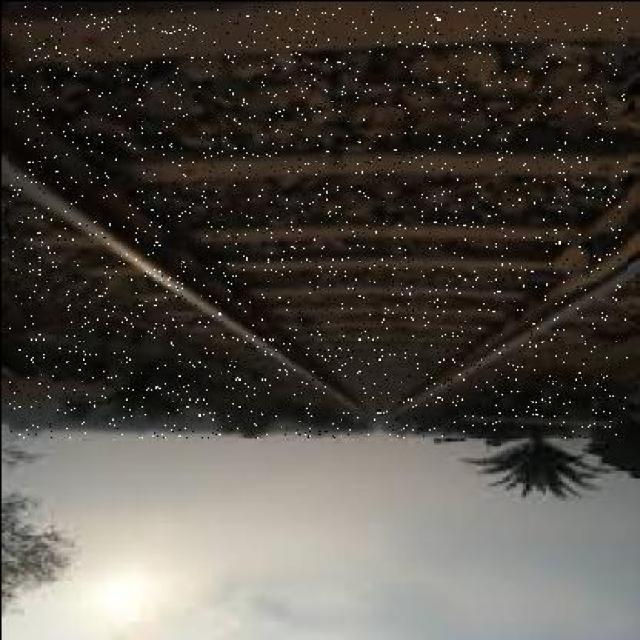rail: (8, 5, 626, 436)
